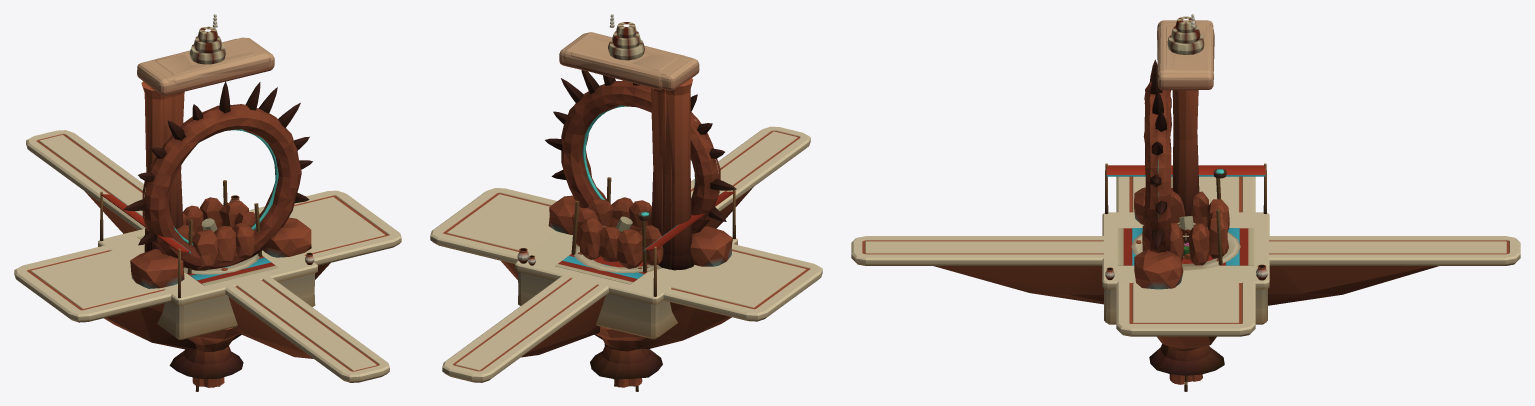
File: canyon-1-BU-S2nMr.glb
The picture shows the model from 3 angles, left to right: view 1: azimuth 30°, elevation 25°; view 2: azimuth 150°, elevation 25°; view 3: azimuth 270°, elevation 25°; orthographic projection. The views are drawn at different scales.
Parts seen in each view (by area): view 1: portal_#0, block_28x2x10#0, block_4x2x48#0, pad_12x2x12#0, hopper_4x3#0, pressFrame_6.1x6x3x7#0, pressFrame_4x6x2.5x7_snake#0, pressFrame_5.5x6x3x7#0, pressFrame_4.5x6x3x7#0, geyserVent_8#0; view 2: block_28x2x10#0, block_4x2x48#0, pad_12x2x12#0, portal_#0, hopper_4x3#0, pressFrame_6.1x6x3x7#0, pressFrame_4x6x2.5x7_snake#0, pressFrame_5.5x6x3x7#0, pressFrame_4.5x6x3x7#0, geyserVent_8#0; view 3: block_4x2x48#0, block_28x2x10#0, pad_12x2x12#0, portal_#0, pressFrame_4x6x2.5x7_snake#0, hopper_4x3#0, pressFrame_5.5x6x3x7#0, pressFrame_6.1x6x3x7#0, geyserVent_8#0.
Part boxes in pixels (left/top/right/bottom): portal_#0: left=123, top=81, right=312, bottom=288; block_28x2x10#0: left=14, top=190, right=401, bottom=349; block_4x2x48#0: left=26, top=130, right=389, bottom=382; pad_12x2x12#0: left=98, top=191, right=317, bottom=378; hopper_4x3#0: left=176, top=180, right=262, bottom=274; pressFrame_6.1x6x3x7#0: left=137, top=38, right=274, bottom=252; pressFrame_4x6x2.5x7_snake#0: left=155, top=14, right=255, bottom=228; pressFrame_5.5x6x3x7#0: left=145, top=37, right=270, bottom=215; pressFrame_4.5x6x3x7#0: left=150, top=38, right=238, bottom=228; geyserVent_8#0: left=183, top=254, right=262, bottom=274; block_28x2x10#0: left=430, top=188, right=822, bottom=348; block_4x2x48#0: left=442, top=126, right=810, bottom=382; pad_12x2x12#0: left=515, top=189, right=737, bottom=379; portal_#0: left=545, top=70, right=736, bottom=266; hopper_4x3#0: left=571, top=177, right=663, bottom=272; pressFrame_6.1x6x3x7#0: left=559, top=33, right=699, bottom=270; pressFrame_4x6x2.5x7_snake#0: left=594, top=14, right=679, bottom=265; pressFrame_5.5x6x3x7#0: left=563, top=32, right=691, bottom=269; pressFrame_4.5x6x3x7#0: left=571, top=50, right=685, bottom=225; geyserVent_8#0: left=574, top=244, right=662, bottom=272; block_4x2x48#0: left=851, top=236, right=1520, bottom=305; block_28x2x10#0: left=1116, top=176, right=1255, bottom=350; pad_12x2x12#0: left=1102, top=163, right=1269, bottom=375; portal_#0: left=1134, top=59, right=1183, bottom=289; pressFrame_4x6x2.5x7_snake#0: left=1166, top=14, right=1206, bottom=216; hopper_4x3#0: left=1142, top=168, right=1229, bottom=265; pressFrame_5.5x6x3x7#0: left=1157, top=22, right=1213, bottom=189; pressFrame_6.1x6x3x7#0: left=1157, top=20, right=1213, bottom=189; geyserVent_8#0: left=1131, top=227, right=1240, bottom=270.
Size of the model in its own units: 28 by 29.86 by 48.
